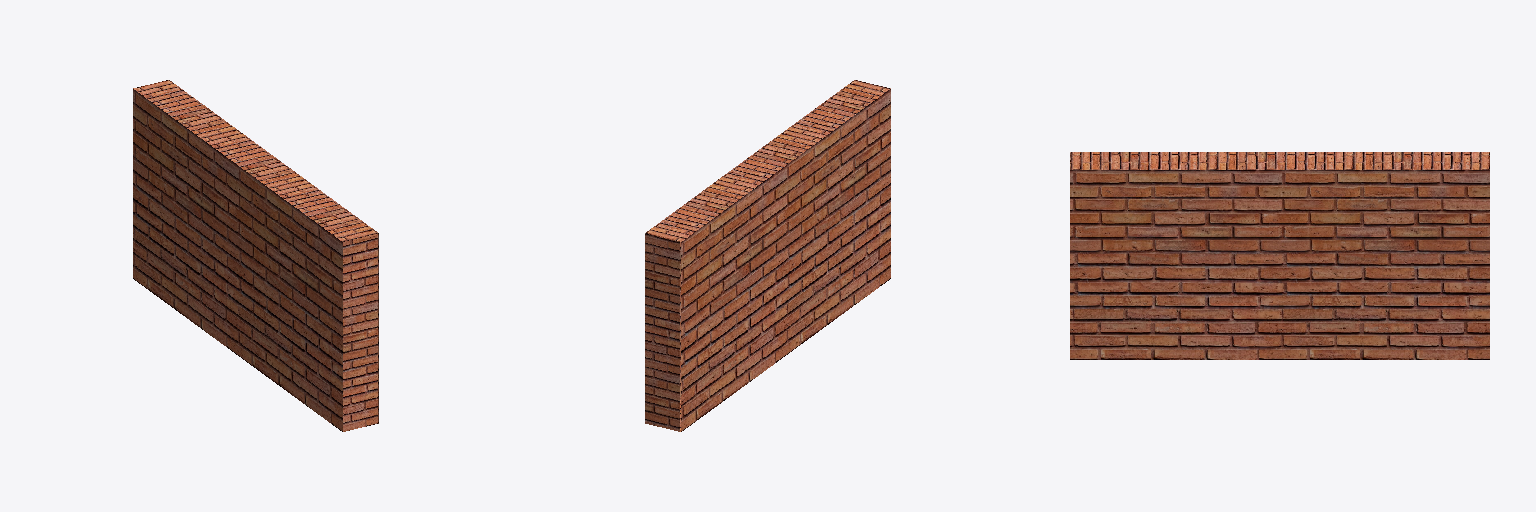
3 views of the same model, side by side, from view 1: azimuth 30°, elevation 25°; view 2: azimuth 150°, elevation 25°; view 3: azimuth 270°, elevation 25° (orthographic).
Parts seen in each view (by area): view 1: Cube.006; view 2: Cube.006; view 3: Cube.006.
Boxes of the visible parts, x1,y1,x2,y2 form: Cube.006: [133, 80, 378, 431]; Cube.006: [645, 80, 890, 431]; Cube.006: [1070, 152, 1489, 359].
Size of the model in its own units: 2 by 10 by 20.
Materials: 1 (1 with a texture image).